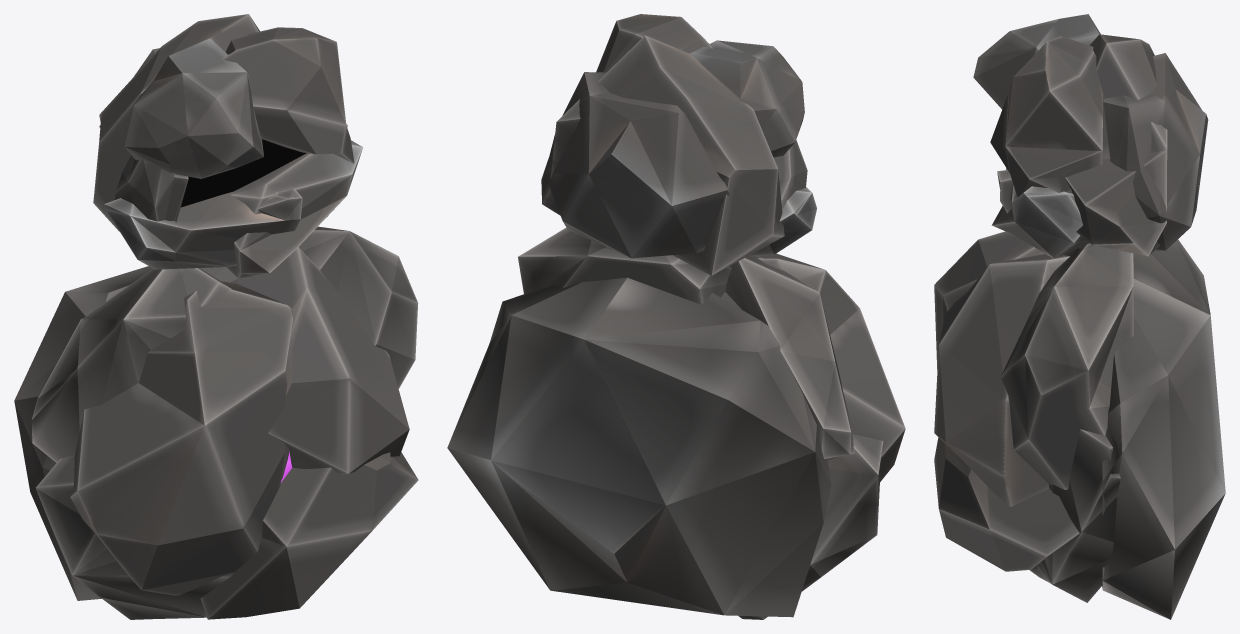
The model's file is Golem_Main.fbx.
3 renders of one model, left to right at view 1: azimuth 30°, elevation 25°; view 2: azimuth 150°, elevation 25°; view 3: azimuth 270°, elevation 25°, orthographic. The views are drawn at different scales.
Parts seen in each view (by area): view 1: Head, Armor_1, Body, Armor_2, Armor_3; view 2: Body, Head, Armor_1; view 3: Body, Head, Armor_2, Armor_3, Armor_1.
Boxes of the visible parts, x1=… form: Head: x1=93, y1=14, x2=362, y2=278; Armor_1: x1=70, y1=281, x2=292, y2=595; Body: x1=14, y1=226, x2=418, y2=619; Armor_2: x1=237, y1=247, x2=409, y2=474; Armor_3: x1=200, y1=452, x2=418, y2=619; Body: x1=447, y1=227, x2=883, y2=619; Head: x1=541, y1=14, x2=816, y2=275; Armor_1: x1=758, y1=253, x2=905, y2=481; Body: x1=1001, y1=239, x2=1225, y2=619; Head: x1=973, y1=14, x2=1208, y2=258; Armor_2: x1=934, y1=254, x2=1069, y2=506; Armor_3: x1=934, y1=437, x2=1079, y2=571; Armor_1: x1=934, y1=231, x2=1044, y2=369.
Bounding box in the file's own units: 2090 × 2927 × 1379.
